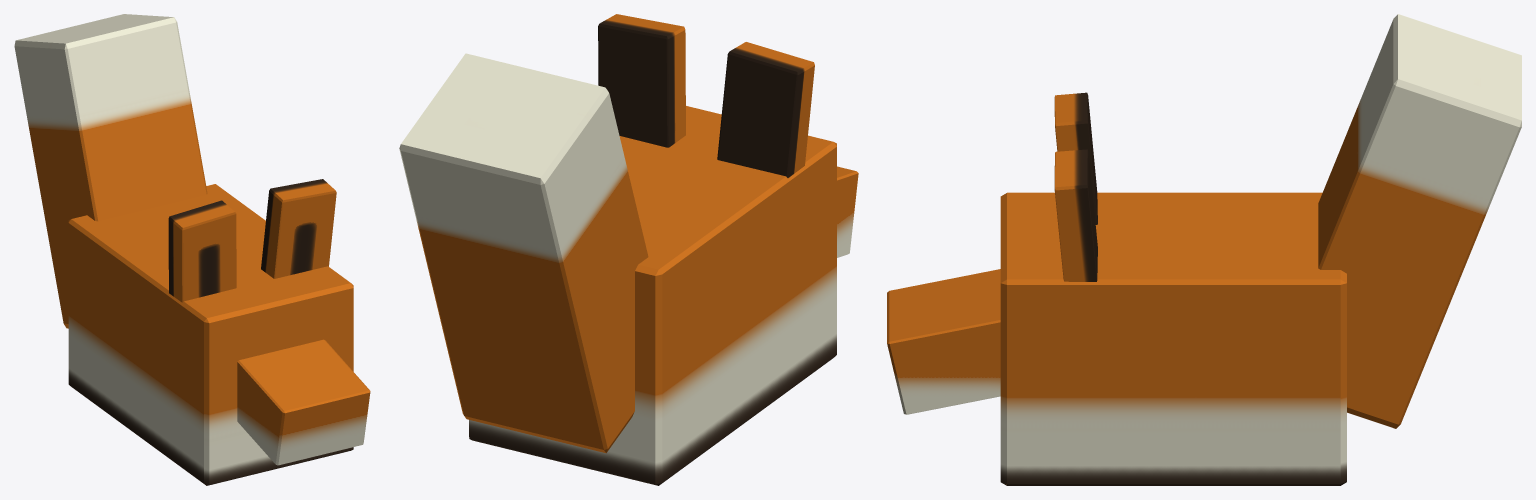
Rendered from fox.fbx.
3 views of the same model, side by side, from view 1: azimuth 30°, elevation 25°; view 2: azimuth 150°, elevation 25°; view 3: azimuth 270°, elevation 25° (orthographic). The views are drawn at different scales.
Visible parts, largest first — view 1: Fox; view 2: Fox; view 3: Fox.
Boxes of the visible parts, box(x1,y1,x2,y2) form: Fox: box(14, 14, 370, 485); Fox: box(399, 14, 858, 485); Fox: box(887, 14, 1521, 485).
Bounding box in the file's own units: 131 × 259 × 376.
